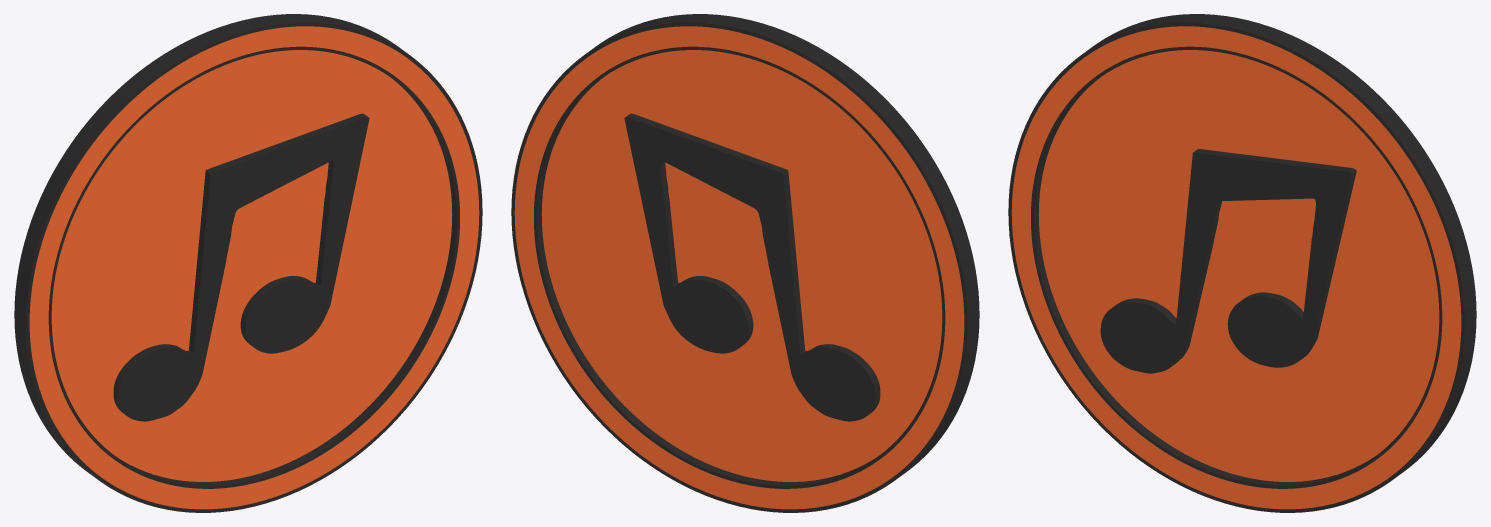
Rendered from Note_3.glb.
3 renders of one model, left to right at view 1: azimuth 30°, elevation 25°; view 2: azimuth 150°, elevation 25°; view 3: azimuth 330°, elevation 25°, orthographic.
Parts seen in each view (by area): view 1: Circle, Note_3; view 2: Circle, Note_3; view 3: Circle, Note_3.
Part boxes in pixels (<box>): Circle: <box>14,14,482,512</box>; Note_3: <box>113,113,369,421</box>; Circle: <box>511,14,979,512</box>; Note_3: <box>624,113,880,421</box>; Circle: <box>1008,14,1476,512</box>; Note_3: <box>1100,148,1356,373</box>.
Bounding box in the file's own units: 2 × 2 × 0.09.
